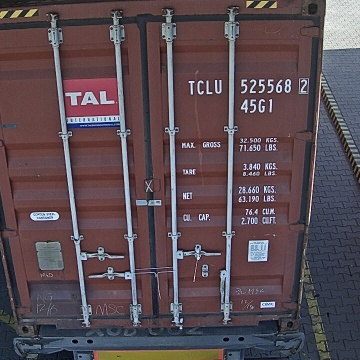serial_id: (188, 78, 308, 94)
